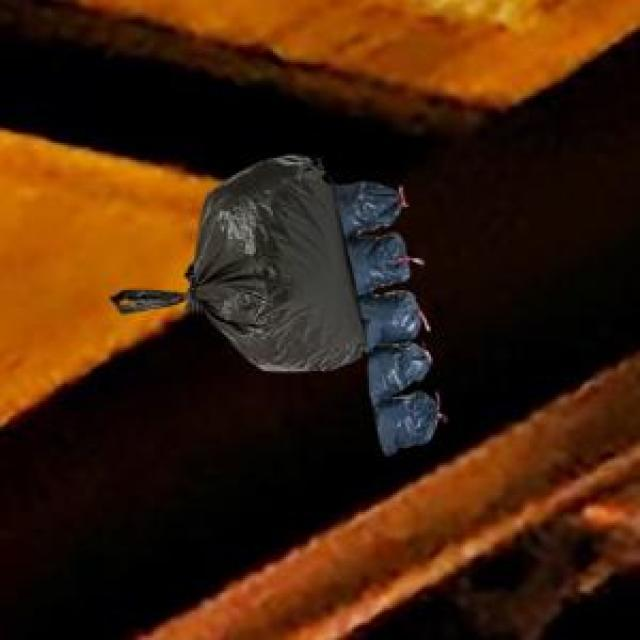Trashbag: (194, 153, 350, 380), (354, 228, 418, 296), (360, 287, 426, 352), (338, 180, 408, 239), (380, 394, 441, 452), (372, 347, 432, 402)
